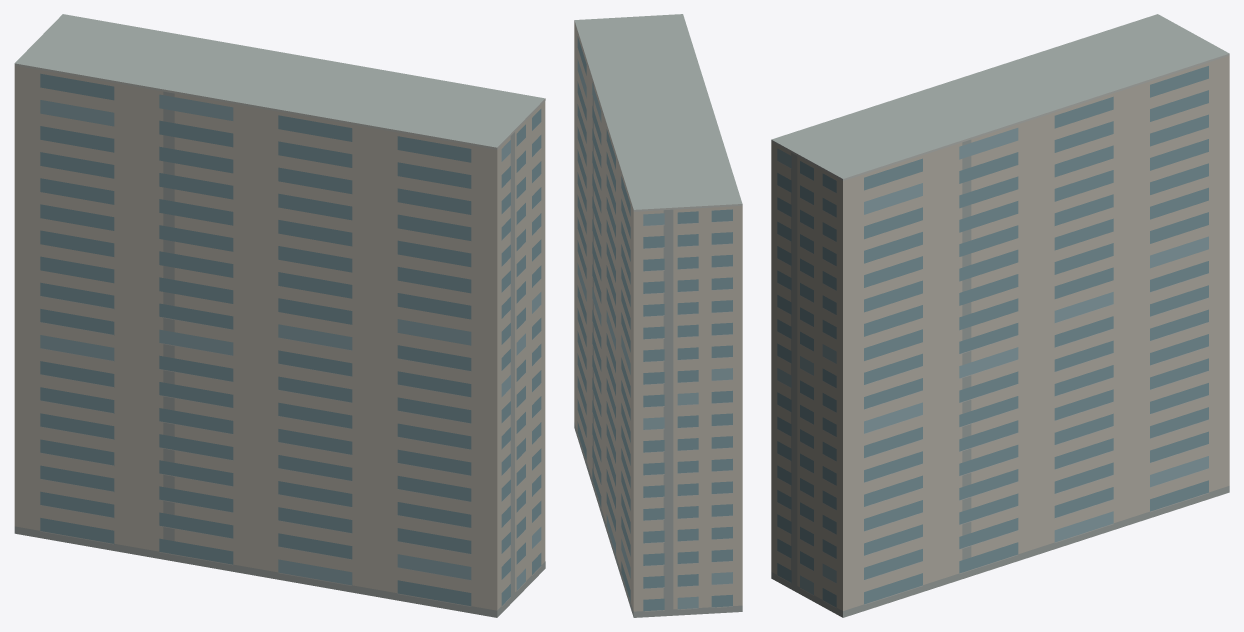
The model's file is residential-7cb1961e-7d63-4819-ac22-ac9d146073bd.glb.
The picture shows the model from 3 angles, left to right: view 1: azimuth 30°, elevation 25°; view 2: azimuth 150°, elevation 25°; view 3: azimuth 270°, elevation 25°; orthographic projection. The views are drawn at different scales.
Visible parts, largest first — view 1: residential-7cb1961e-7d63-4819-ac22-ac9d146073bd.tmp; view 2: residential-7cb1961e-7d63-4819-ac22-ac9d146073bd.tmp; view 3: residential-7cb1961e-7d63-4819-ac22-ac9d146073bd.tmp.
Boxes of the visible parts, bbox=[...] form: residential-7cb1961e-7d63-4819-ac22-ac9d146073bd.tmp: bbox=[14, 14, 545, 617]; residential-7cb1961e-7d63-4819-ac22-ac9d146073bd.tmp: bbox=[574, 14, 742, 617]; residential-7cb1961e-7d63-4819-ac22-ac9d146073bd.tmp: bbox=[771, 14, 1229, 617].
Size of the model in its own units: 41.94 by 52 by 49.23.
